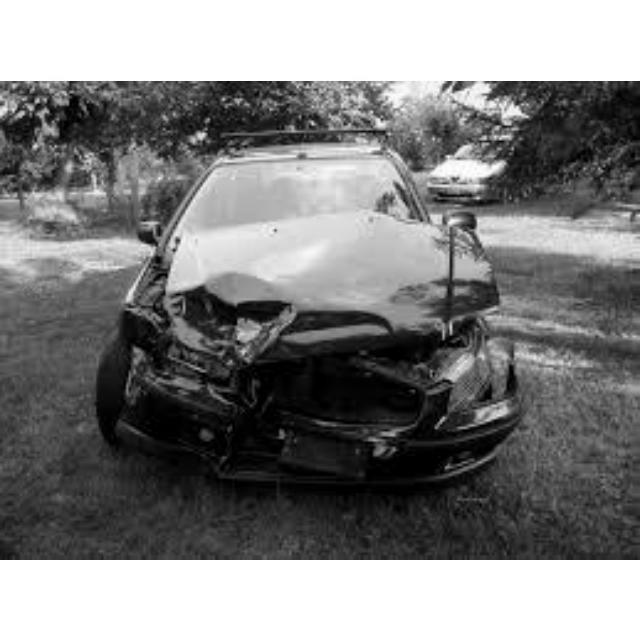bonnet-dent: (161, 212, 435, 325)
front-bumper-dent: (138, 384, 474, 482)
